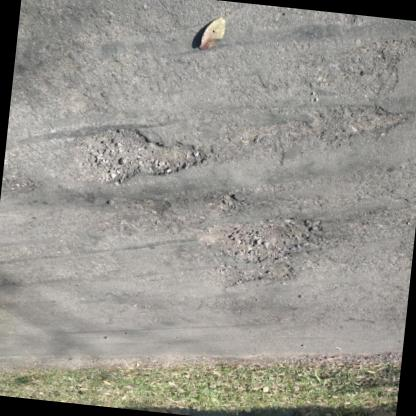pothole: (72, 124, 210, 198), (200, 211, 335, 272), (206, 257, 298, 297), (214, 188, 245, 214)
